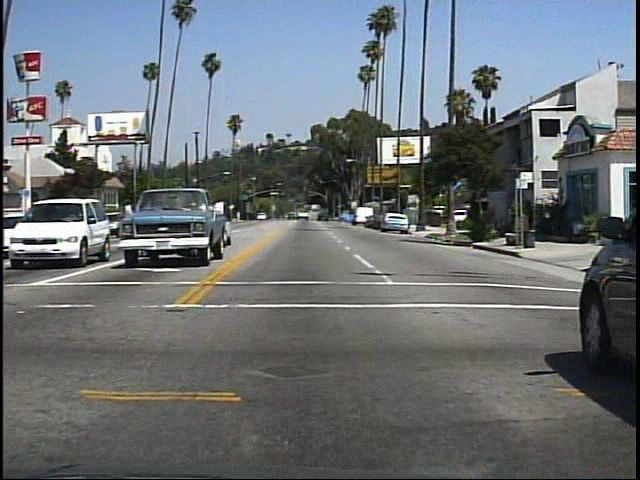person: (484, 199, 507, 246)
